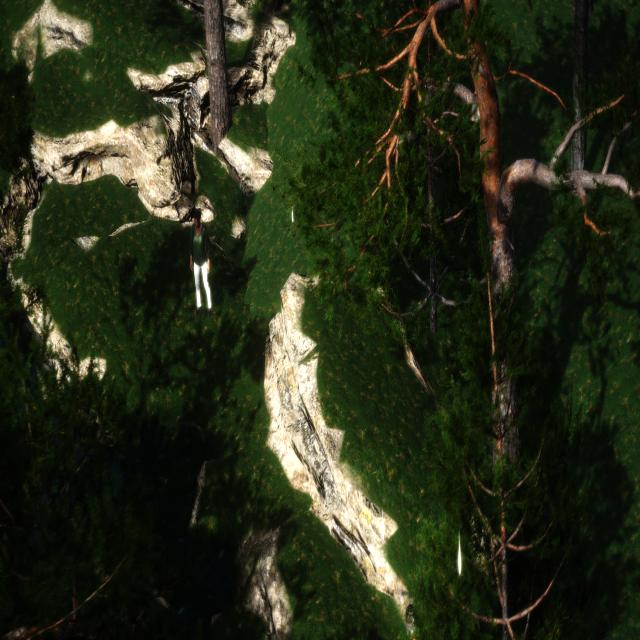Human: (185, 204, 218, 323)
